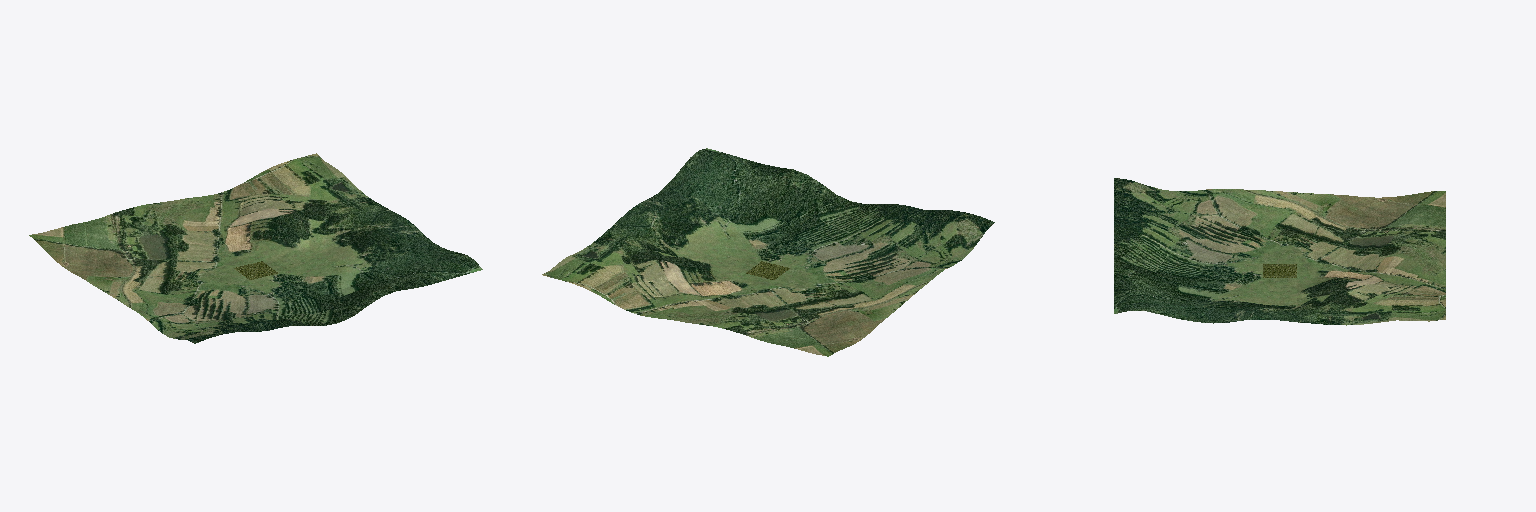
The picture shows the model from 3 angles: view 1: azimuth 30°, elevation 25°; view 2: azimuth 150°, elevation 25°; view 3: azimuth 270°, elevation 25°; orthographic projection.
Parts seen in each view (by area): view 1: Plane303; view 2: Plane303; view 3: Plane303.
Part boxes in pixels (x1,y1,x2,y2): Plane303: (29,153,482,343); Plane303: (542,148,994,356); Plane303: (1114,178,1445,325).
Size of the model in its own units: 15200 by 1568 by 15200.
Materials: 2 (2 with a texture image).